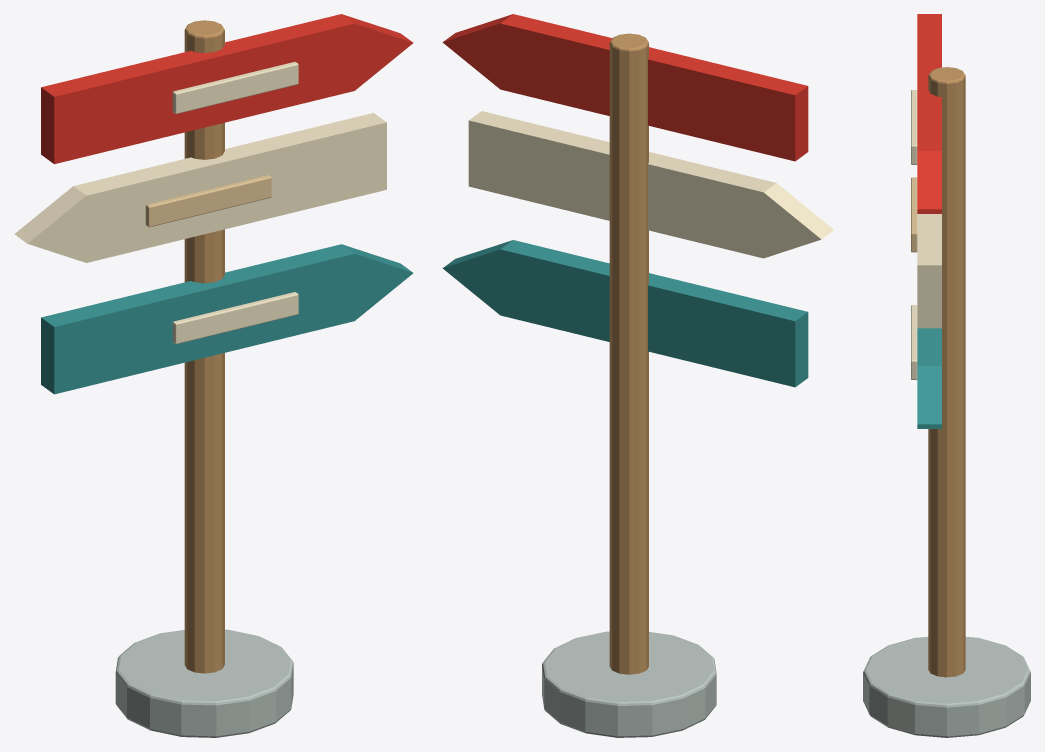
The model's file is S061_direction_signpost.glb.
3 renders of one model, left to right at view 1: azimuth 30°, elevation 25°; view 2: azimuth 150°, elevation 25°; view 3: azimuth 270°, elevation 25°, orthographic. The views are drawn at different scales.
Parts seen in each view (by area): view 1: direction_arrow, direction_arrow.001, direction_arrow.002, sign_pole, sign_base, blank_arrow_label.001, blank_arrow_label, blank_arrow_label.002; view 2: sign_pole, direction_arrow.002, direction_arrow, direction_arrow.001, sign_base; view 3: sign_pole, sign_base, direction_arrow.002, direction_arrow.001, direction_arrow, blank_arrow_label.001, blank_arrow_label, blank_arrow_label.002.
Boxes of the visible parts, <box> form: direction_arrow: <box>41,244,413,394</box>; direction_arrow.001: <box>14,113,386,262</box>; direction_arrow.002: <box>41,14,413,164</box>; sign_pole: <box>184,20,224,673</box>; sign_base: <box>115,629,293,737</box>; blank_arrow_label.001: <box>145,175,271,227</box>; blank_arrow_label: <box>172,292,298,344</box>; blank_arrow_label.002: <box>172,62,298,113</box>; sign_pole: <box>609,33,648,674</box>; direction_arrow.002: <box>442,14,808,161</box>; direction_arrow: <box>442,240,808,387</box>; direction_arrow.001: <box>468,111,833,258</box>; sign_base: <box>542,631,716,737</box>; sign_pole: <box>928,67,965,677</box>; sign_base: <box>863,637,1030,737</box>; direction_arrow.002: <box>917,14,941,213</box>; direction_arrow.001: <box>917,214,941,328</box>; direction_arrow: <box>917,328,941,428</box>; blank_arrow_label.001: <box>911,177,917,252</box>; blank_arrow_label: <box>911,305,917,379</box>; blank_arrow_label.002: <box>911,90,917,164</box>.
Bounding box in the file's own units: 1.44 × 2.4 × 0.58.
